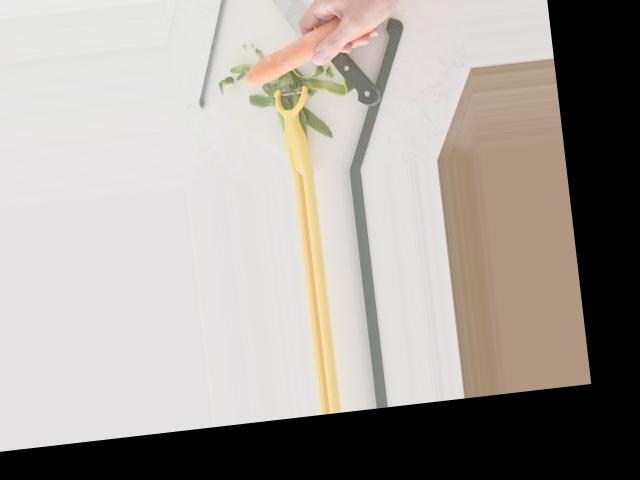carrot: (240, 12, 386, 86)
